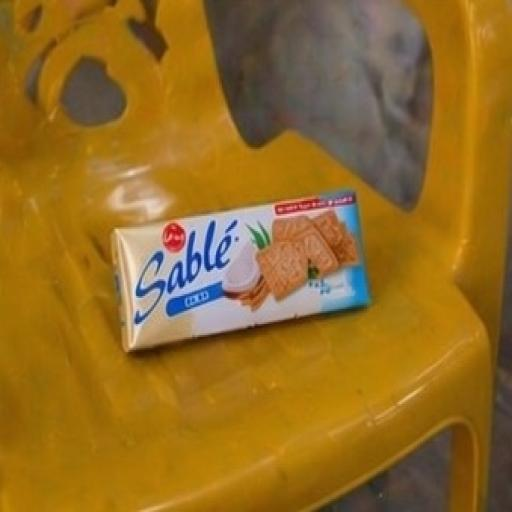sabl: (87, 138, 420, 406)
